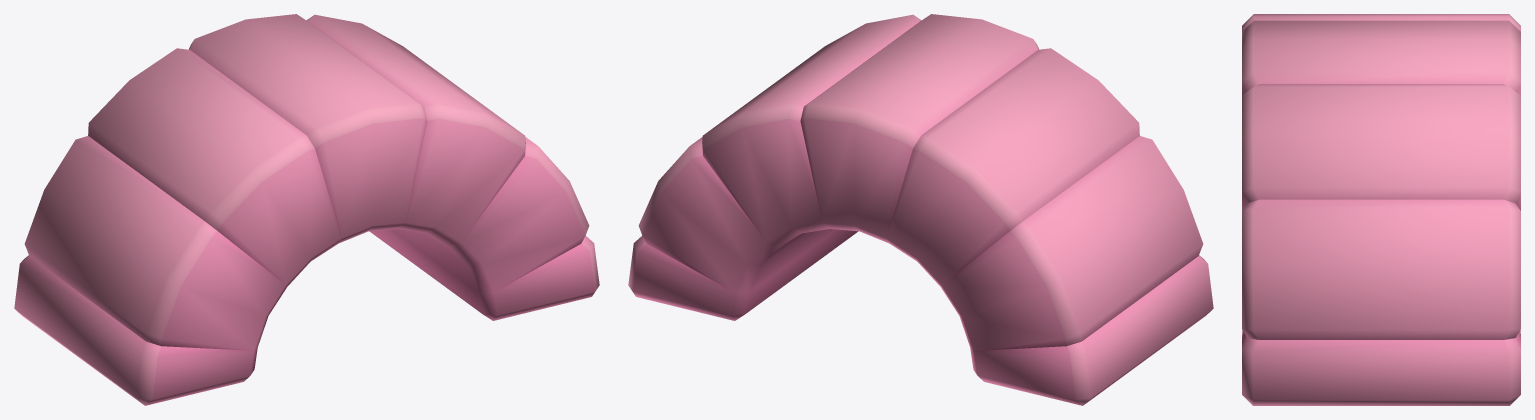
Rendered from tt_tire_pink.glb.
The picture shows the model from 3 angles, left to right: view 1: azimuth 30°, elevation 25°; view 2: azimuth 150°, elevation 25°; view 3: azimuth 270°, elevation 25°; orthographic projection. The views are drawn at different scales.
Parts seen in each view (by area): view 1: tire_pink; view 2: tire_pink; view 3: tire_pink.
Part boxes in pixels (<box>): tire_pink: <box>14,14,599,405</box>; tire_pink: <box>628,14,1213,405</box>; tire_pink: <box>1242,14,1520,405</box>.
Bounding box in the file's own units: 0.8 × 0.4 × 0.4.
1 material, 1 textured.
